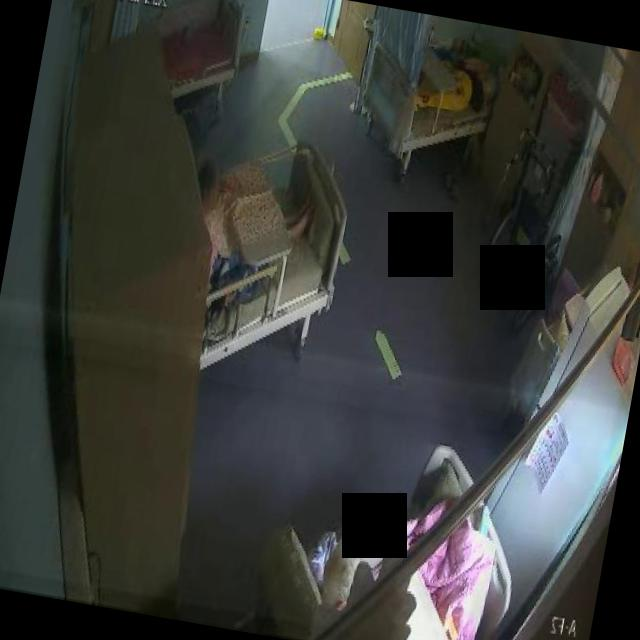bed: (261, 418, 536, 640), (196, 128, 361, 392), (349, 41, 497, 198), (166, 0, 254, 120)
